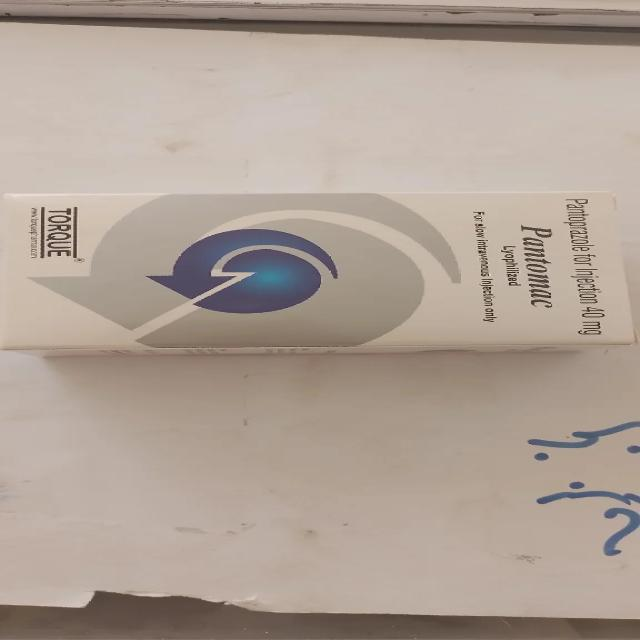drug-name: (519, 223, 559, 312)
